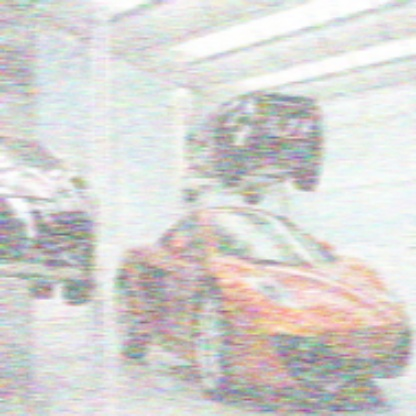Vehicle: (115, 207, 414, 402)
